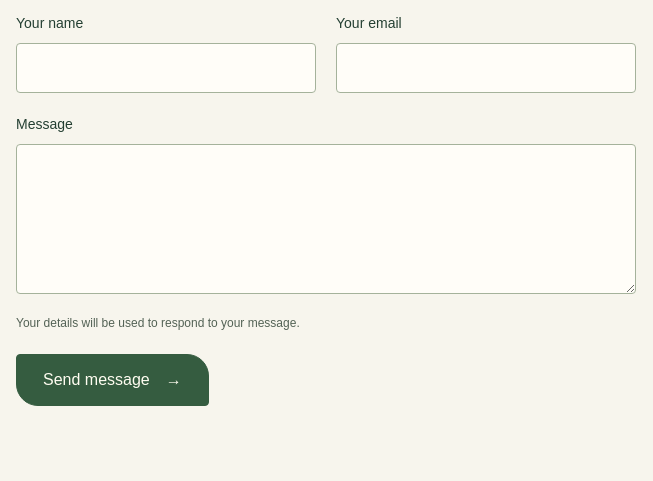
Test: preserves the message after a http failure
Type "Test Visitor" into the field labelled "Your name". click: coordinates (166, 68)
box: top-left (16, 43), bottom-right (316, 93)
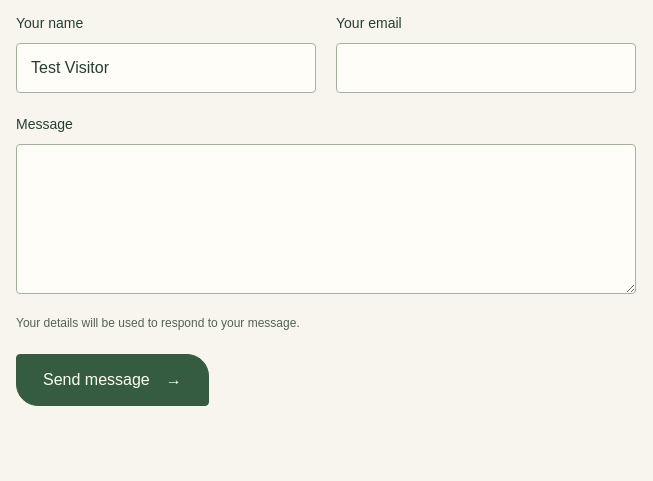
Type "visitor@example.com" into the field labelled "Your email". click: coordinates (486, 68)
box: top-left (336, 43), bottom-right (636, 93)
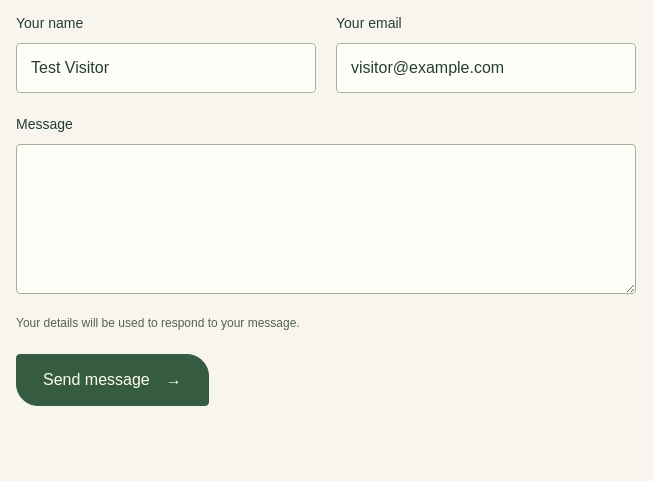
Type "A question about your work & projects." into the text box labelled "Message". click: coordinates (326, 219)
box: top-left (16, 144), bottom-right (636, 294)
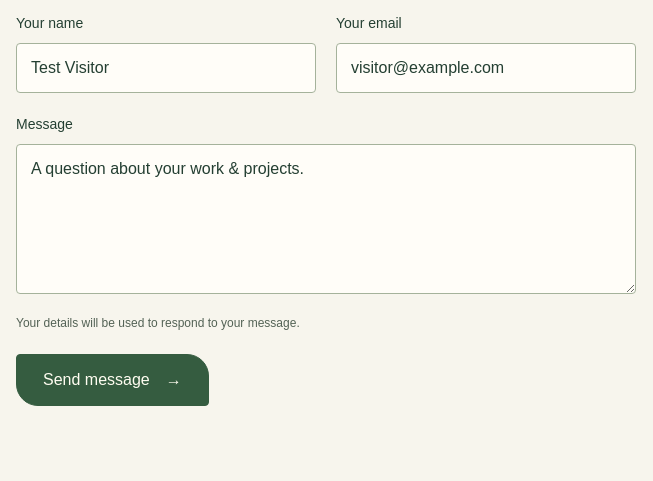
Submit the form
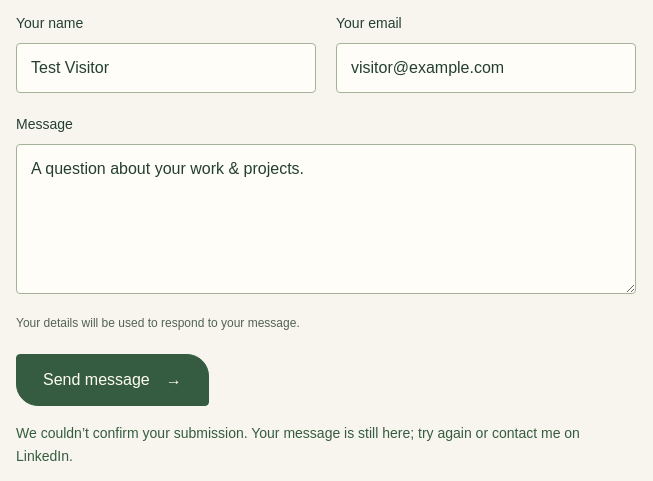
expect the button "Send message →" is enabled: met, box top-left (16, 354), bottom-right (209, 406)
expect the text "couldn’t confirm your submission" is shown: met, box top-left (16, 425), bottom-right (580, 464)
